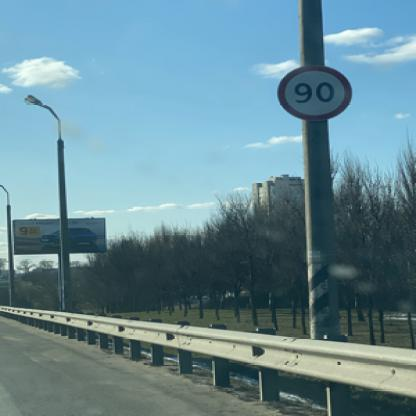speedlimit: (274, 64, 350, 118)
